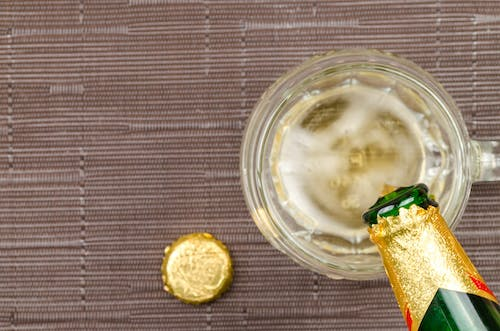alcohol: (239, 48, 500, 281), (359, 181, 500, 331)
